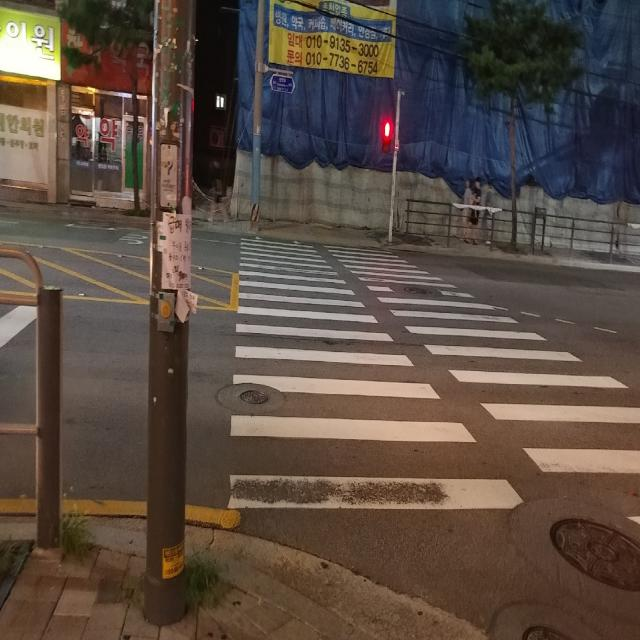빨간불: (382, 121, 394, 155)
횡단보도: (227, 237, 640, 525)
